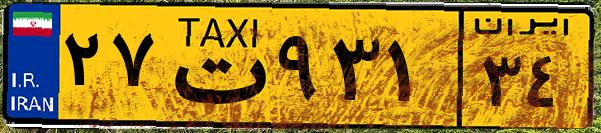1: (385, 28, 445, 110)
2: (57, 26, 110, 100)
3: (330, 28, 385, 110), (475, 38, 525, 113)
4: (525, 38, 570, 115)
7: (110, 28, 158, 98)
9: (270, 28, 330, 110)
ت: (158, 12, 270, 120)
